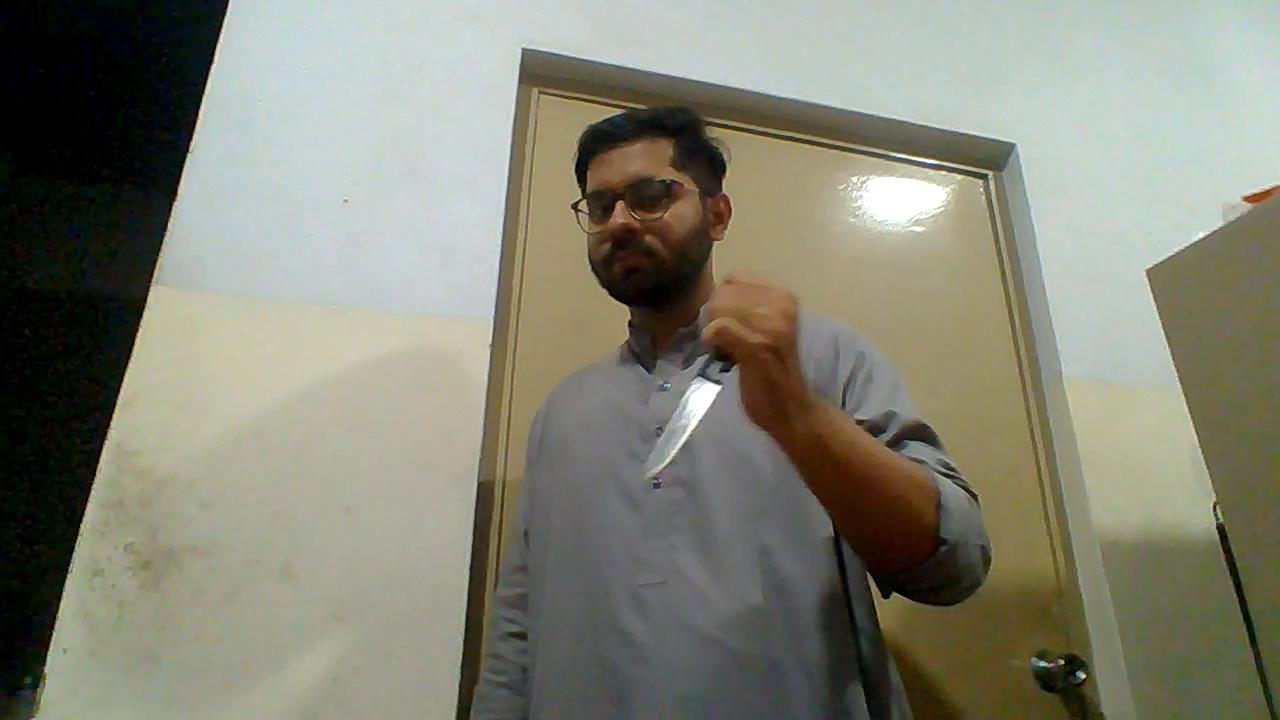criminal: (463, 99, 993, 720)
weapon: (640, 342, 736, 480)
